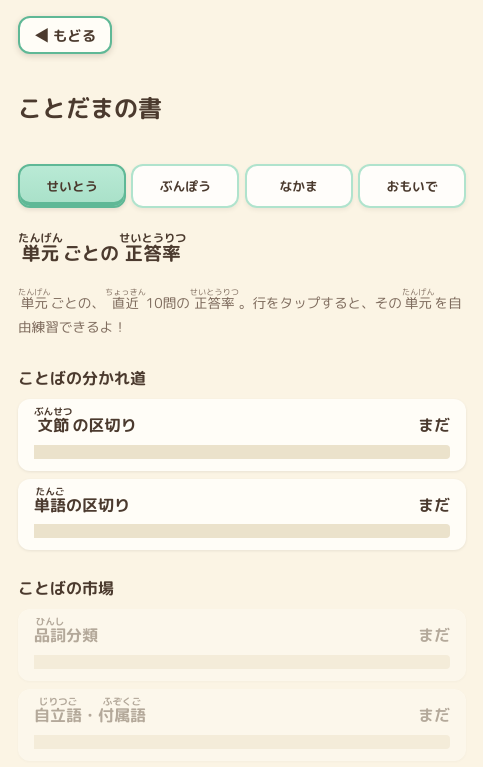
Scenario: ことだまの書のタブ › 「ぶんぽう」(ぶんぽうの ずかん): 既存のずかんのページ(バトル中のずかんと同じ部品)が出る
What coordinates should you click on to do the following:
click the tab "ぶんぽう"
I would click on:
 (185, 186)
Its box is [131,164,239,208].
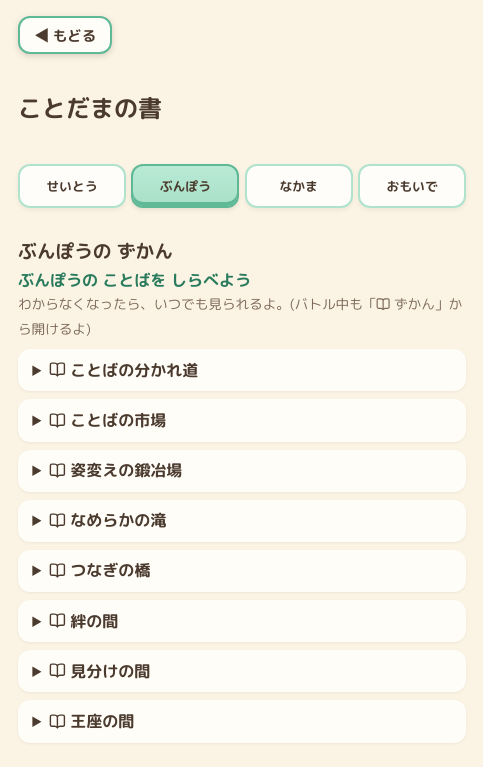
Expected: the element with class "zukan-page" showing "ことばの分かれ道" is shown, [18,349,466,391]
Result: the element with class "zukan-pages" is shown
Result: the list with class "zukan-list" is gone
